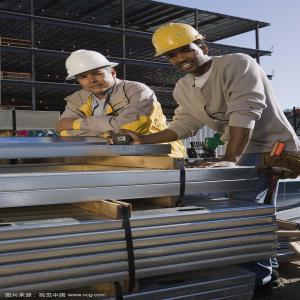white: (63, 49, 119, 95)
yellow: (149, 22, 216, 76)
